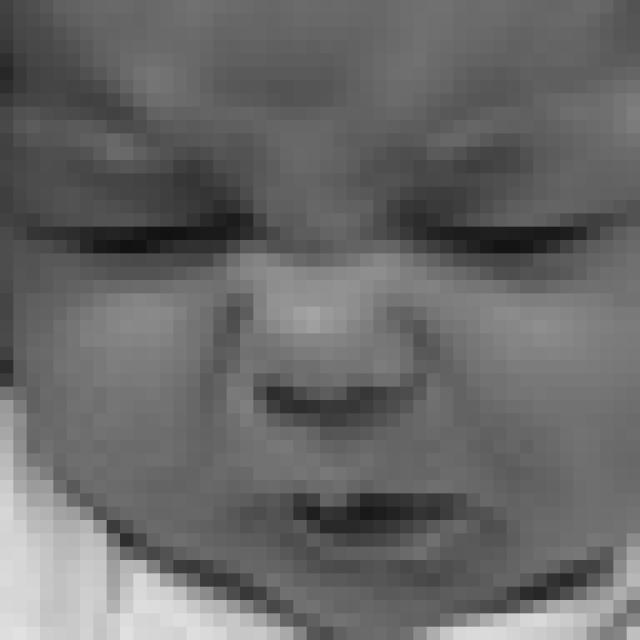disgust: (28, 83, 640, 587)
